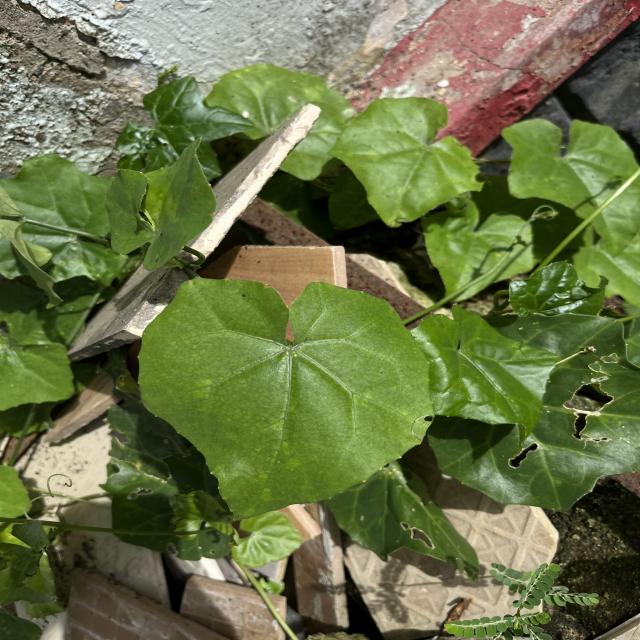Coccinia grandis: (135, 274, 438, 522)
